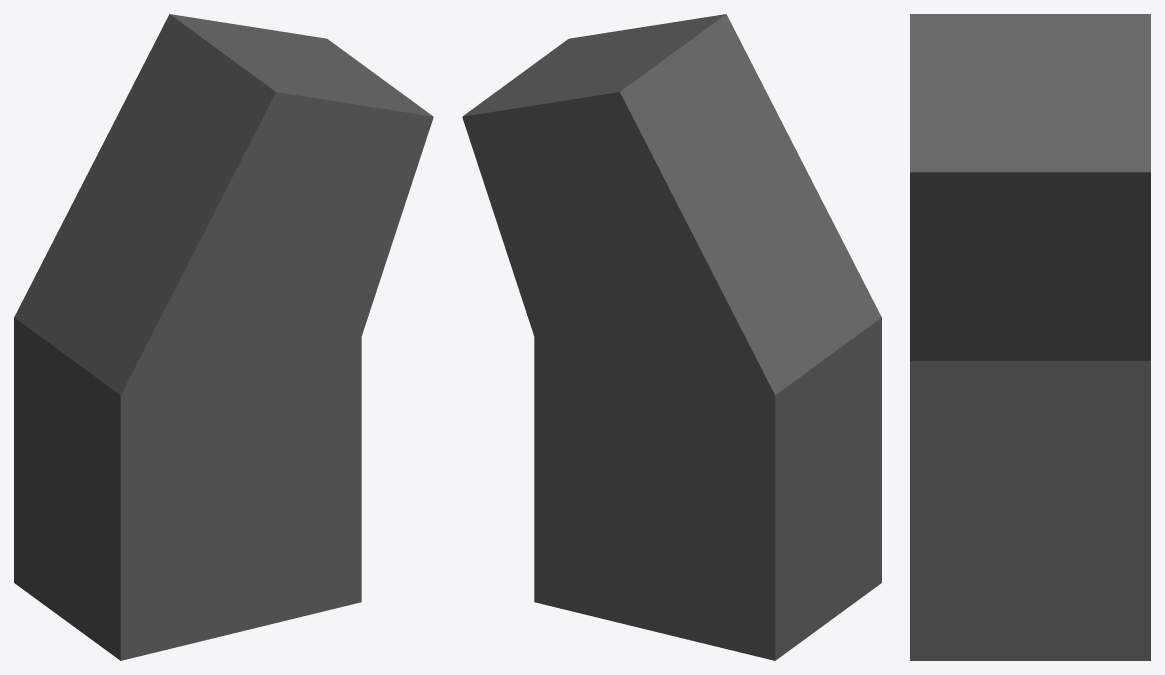
File: fisher_1_equipment_6.FBX
3 views of the same model, side by side, from view 1: azimuth 30°, elevation 25°; view 2: azimuth 150°, elevation 25°; view 3: azimuth 270°, elevation 25° (orthographic). The views are drawn at different scales.
Visible parts, largest first — view 1: fisher_1_equipment_6; view 2: fisher_1_equipment_6; view 3: fisher_1_equipment_6.
Part boxes in pixels (box(x1,y1,x2,y2)): fisher_1_equipment_6: box(14, 14, 433, 660); fisher_1_equipment_6: box(462, 14, 881, 660); fisher_1_equipment_6: box(910, 14, 1150, 660).
Size of the model in its own units: 6.27 by 10.16 by 3.7.
